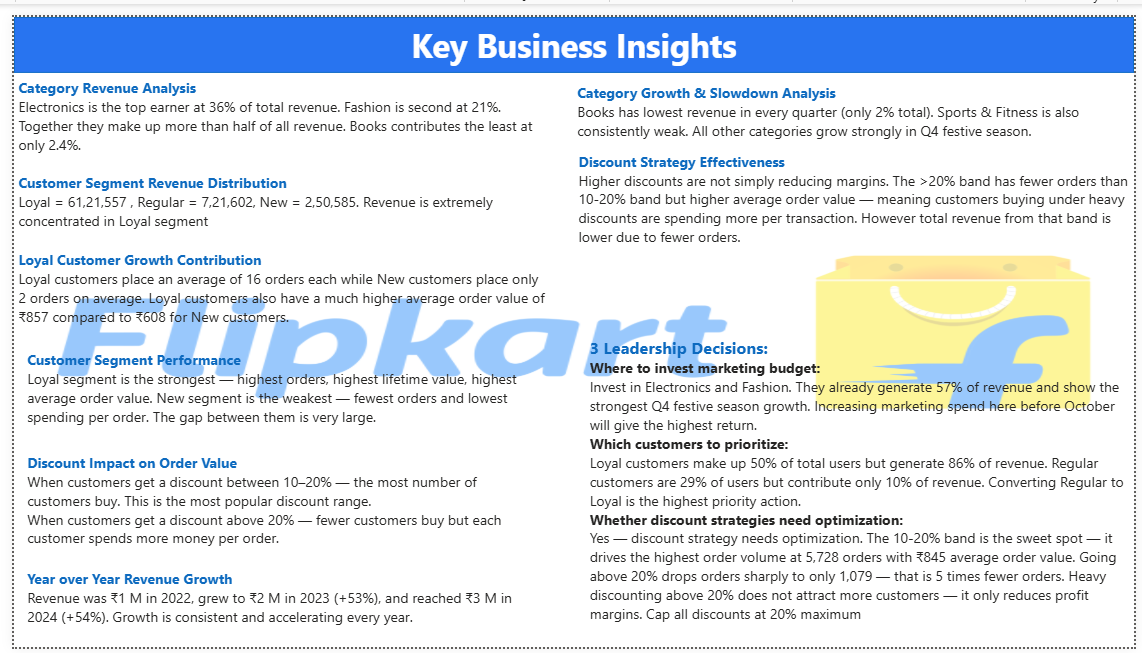

The dashboard page shown, as its layout file describes it:
{"tool":"powerbi","page":{"name":"key business insights","canvas":[1280,720],"ordinal":3},"visuals":[{"type":"textbox","box":[0,63.8,617.5,108.8],"z":0},{"type":"textbox","box":[0,172.5,617.5,88.8],"z":1000},{"type":"textbox","box":[0,261.4,617.1,98.6],"z":2000},{"type":"textbox","box":[10,375.7,575.7,100],"z":3000},{"type":"textbox","box":[10,492.9,575.7,132.9],"z":4000},{"type":"textbox","box":[10,625.7,575.7,94.3],"z":5000},{"type":"textbox","box":[638.3,69.7,640.8,97.8],"z":6000},{"type":"textbox","box":[639.5,149.2,640.8,184.6],"z":7000},{"type":"textbox","box":[652.9,360,627.1,360],"z":8000},{"type":"shape","box":[0,0,1280,63.8],"z":9000}]}

Visuals, with their boxes in screenshot pixels (x1, y1, x2, y2), scaled from the page's 1280x720 canvas onto the 1142x653 screenshot:
textbox: (left=0, top=58, right=551, bottom=157)
textbox: (left=0, top=156, right=551, bottom=237)
textbox: (left=0, top=237, right=551, bottom=326)
textbox: (left=9, top=341, right=523, bottom=431)
textbox: (left=9, top=447, right=523, bottom=568)
textbox: (left=9, top=567, right=523, bottom=652)
textbox: (left=569, top=63, right=1141, bottom=152)
textbox: (left=571, top=135, right=1141, bottom=303)
textbox: (left=583, top=326, right=1141, bottom=652)
shape: (left=0, top=0, right=1141, bottom=58)
